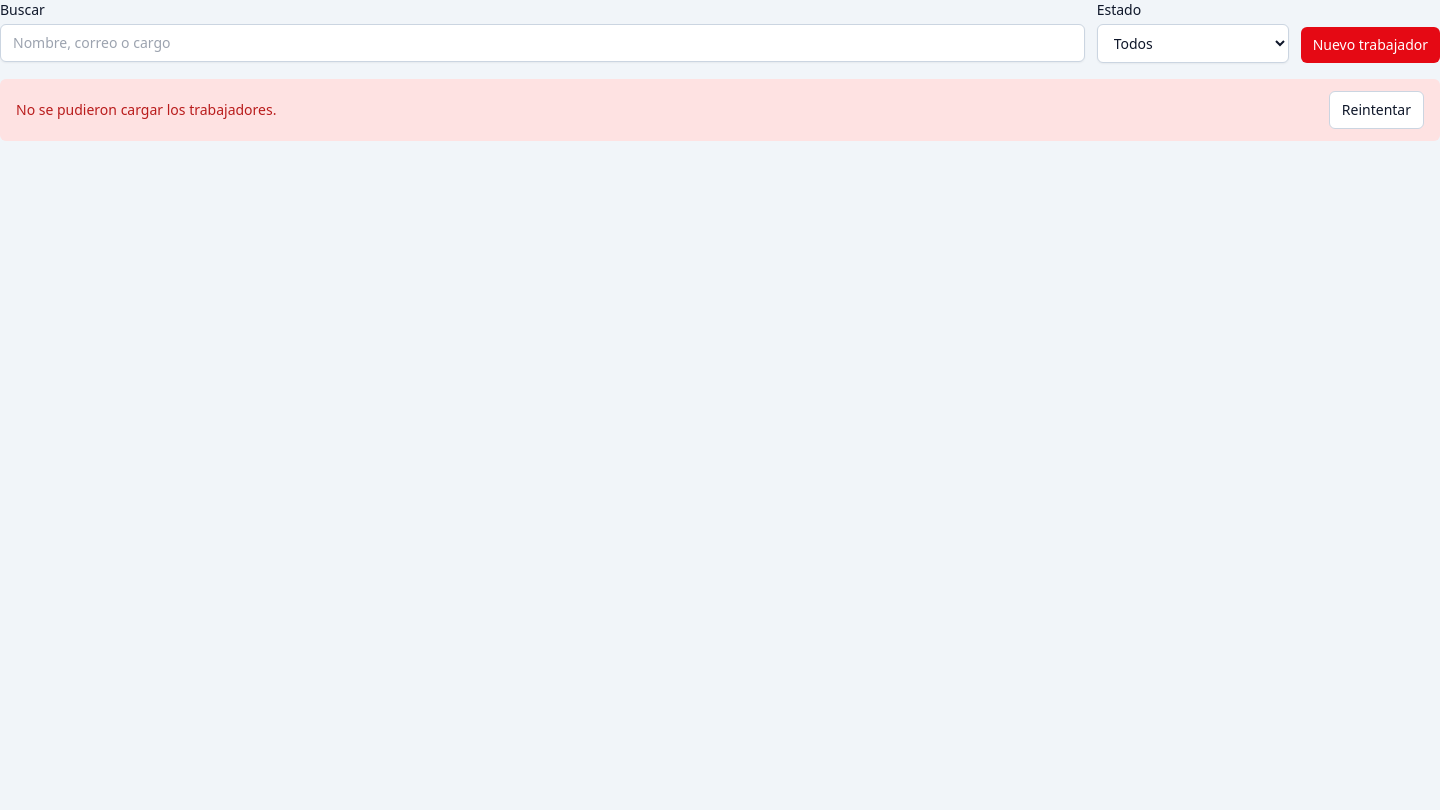
Test: WorkersSection › exige al menos una sucursal antes de enviar
Click the button "Nuevo trabajador".
click(1370, 45)  # box [1301,27,1439,63]
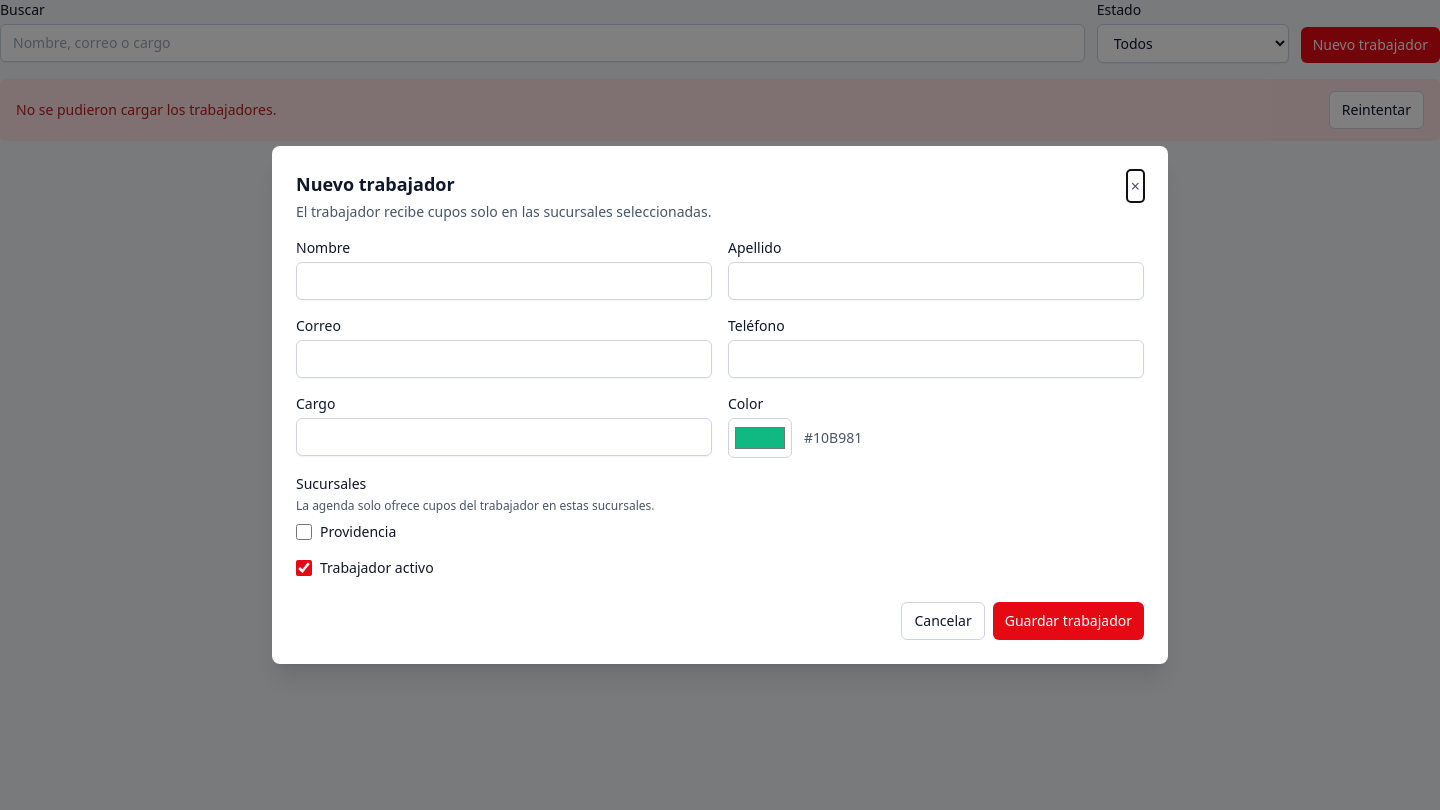
Type "Camila" into the field labelled "Nombre".
click(504, 281); type("Camila")  # box [296,262,712,300]
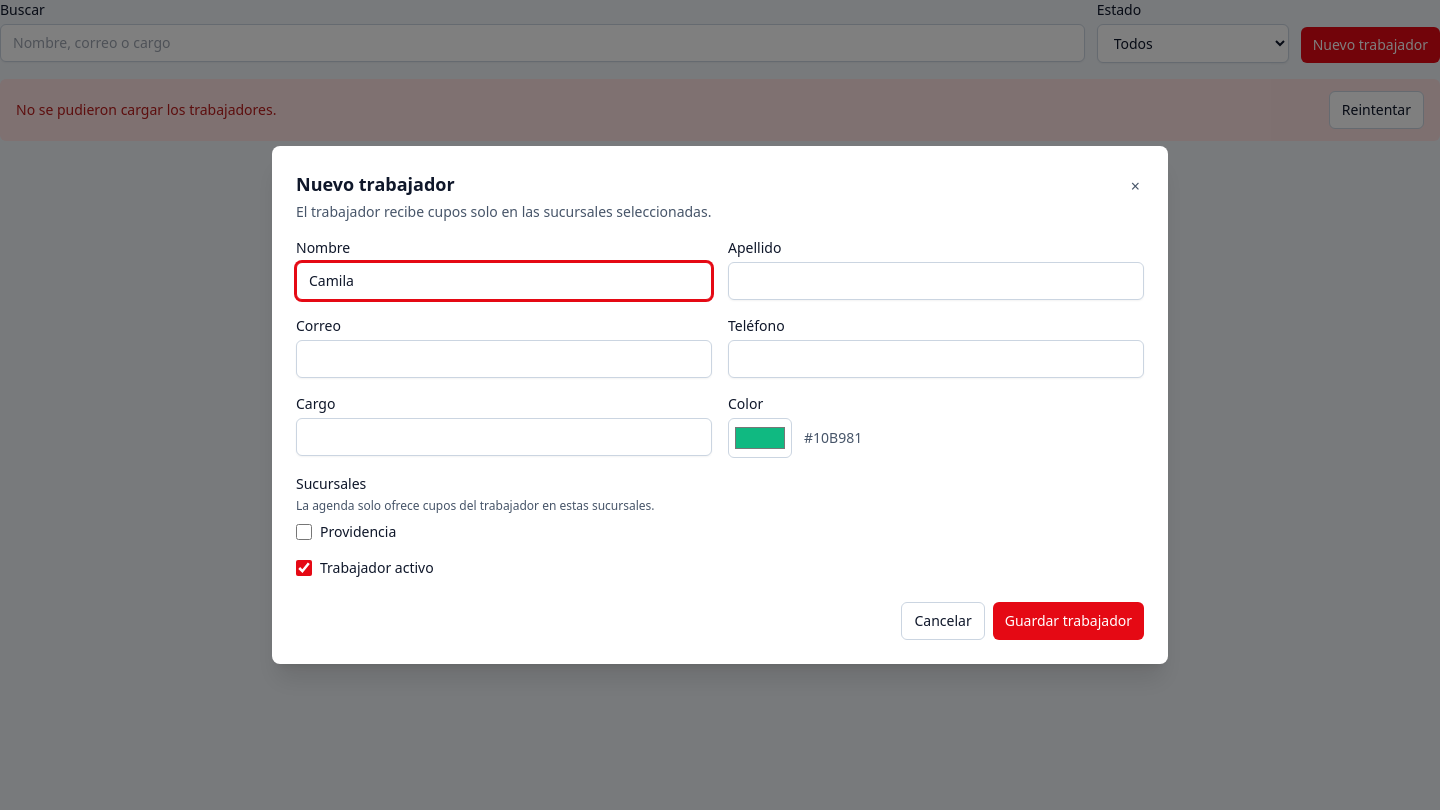
Click the button "Guardar trabajador".
click(1068, 621)  # box [993,602,1144,640]
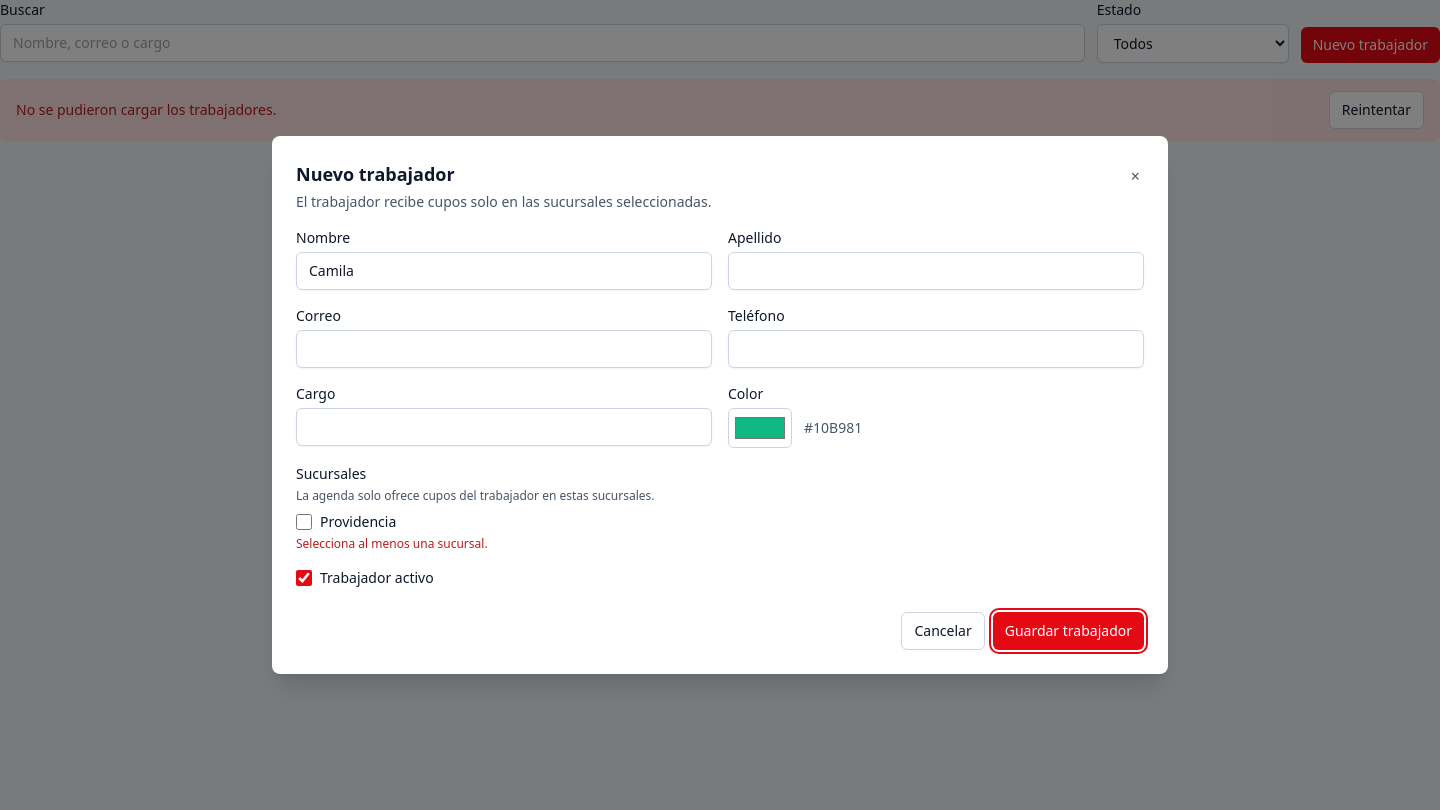
Check: the text "Selecciona al menos una sucursal." is shown, box [296,535,488,552]
